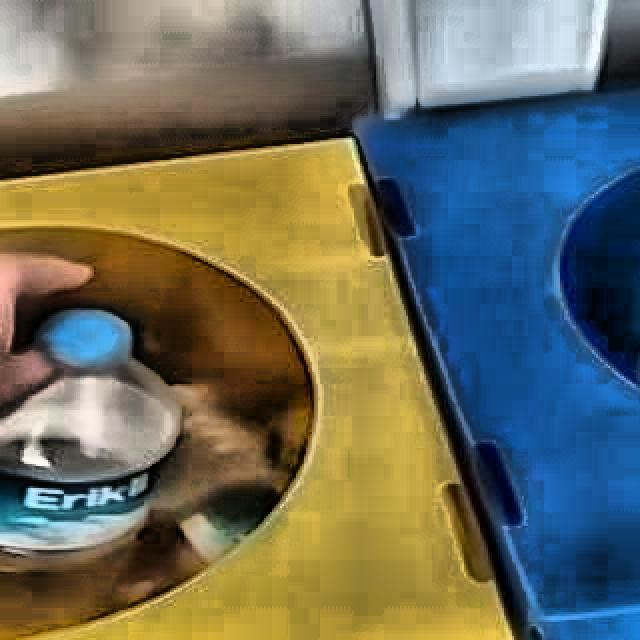plastic: (0, 308, 179, 636)
